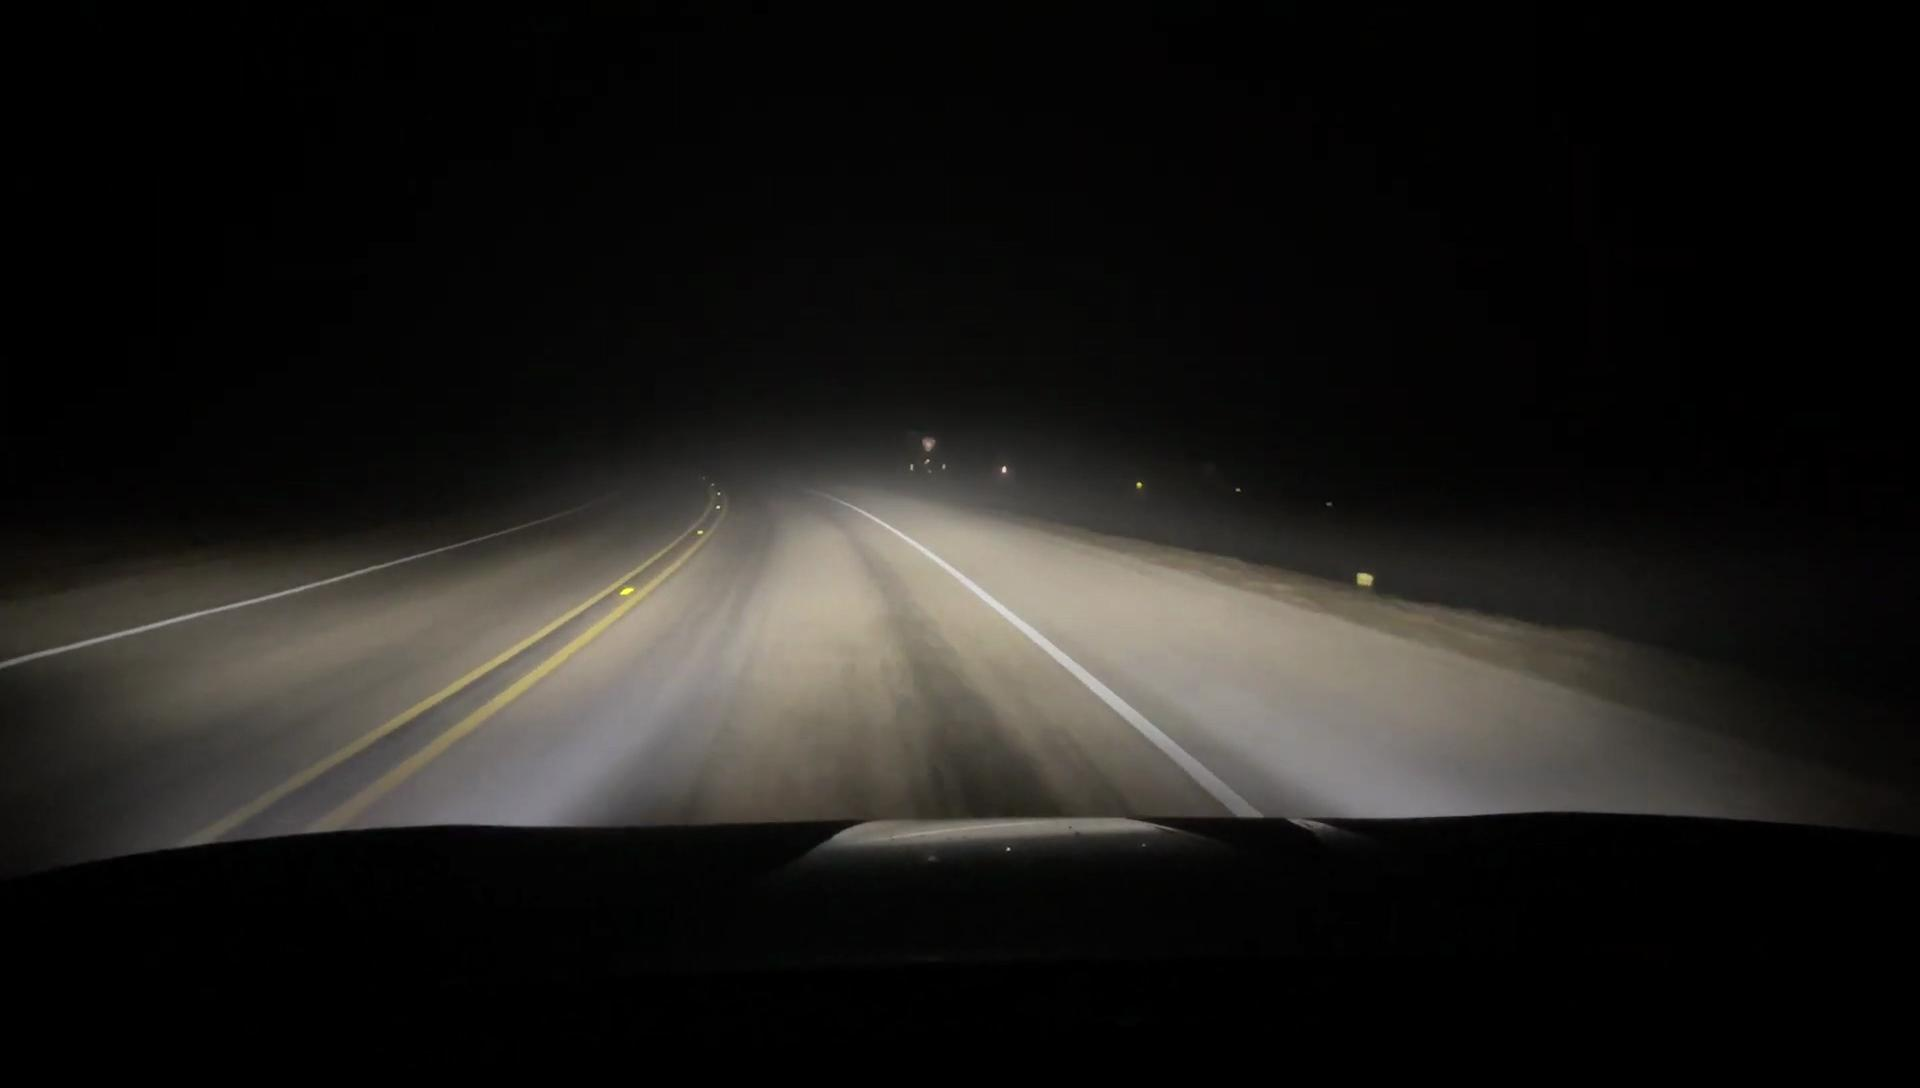road-lanes: (359, 488, 1225, 822)
